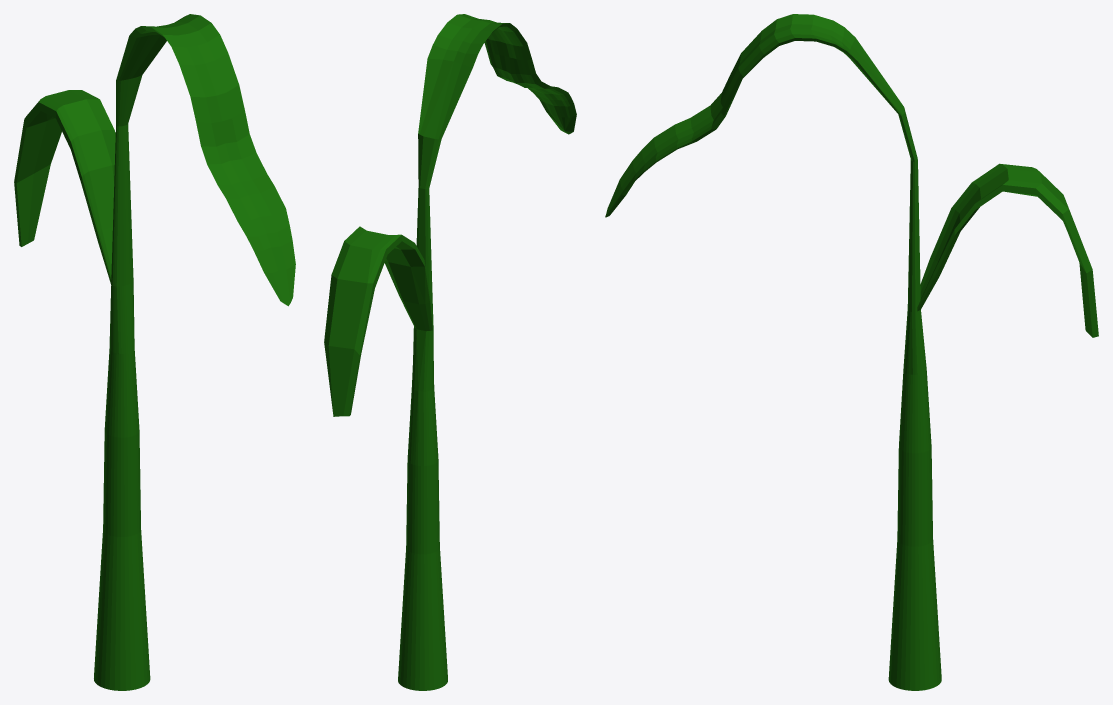
The model's file is BladeOfGrass1.fbx.
3 views of the same model, side by side, from view 1: azimuth 30°, elevation 25°; view 2: azimuth 150°, elevation 25°; view 3: azimuth 270°, elevation 25° (orthographic). The views are drawn at different scales.
Visible parts, largest first — view 1: Cylinder; view 2: Cylinder; view 3: Cylinder.
Part boxes in pixels (left/top/right/bottom): Cylinder: left=14, top=14, right=295, bottom=690; Cylinder: left=324, top=14, right=576, bottom=690; Cylinder: left=605, top=14, right=1098, bottom=690.
Size of the model in its own units: 333 by 4407 by 3014.
